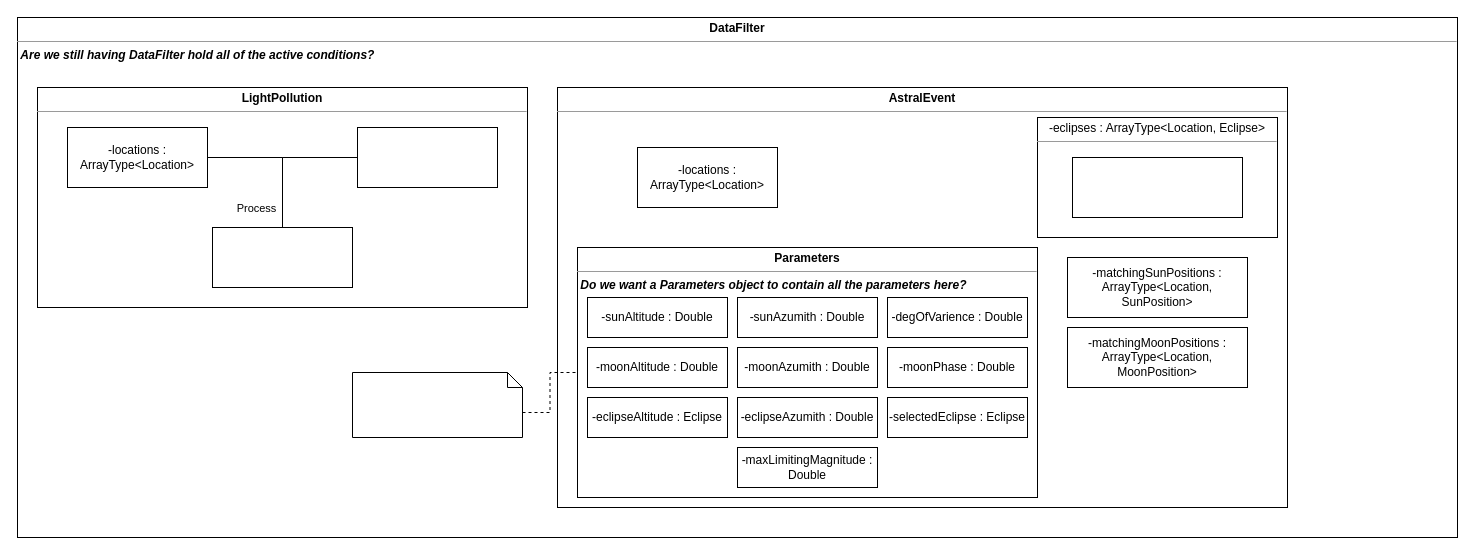
This 1475x555 diagram has some shape labels left out. The centre of each missing label's shape, as x and y in pixels:
-minimumSQM : Integer: the point at 282,257
-positions : ArrayType<EclipsePosition>: the point at 1157,187
data : ArrayType<Location, SQM>: the point at 427,157
Perhaps we group these by the type of event they relate to?: the point at 437,405
